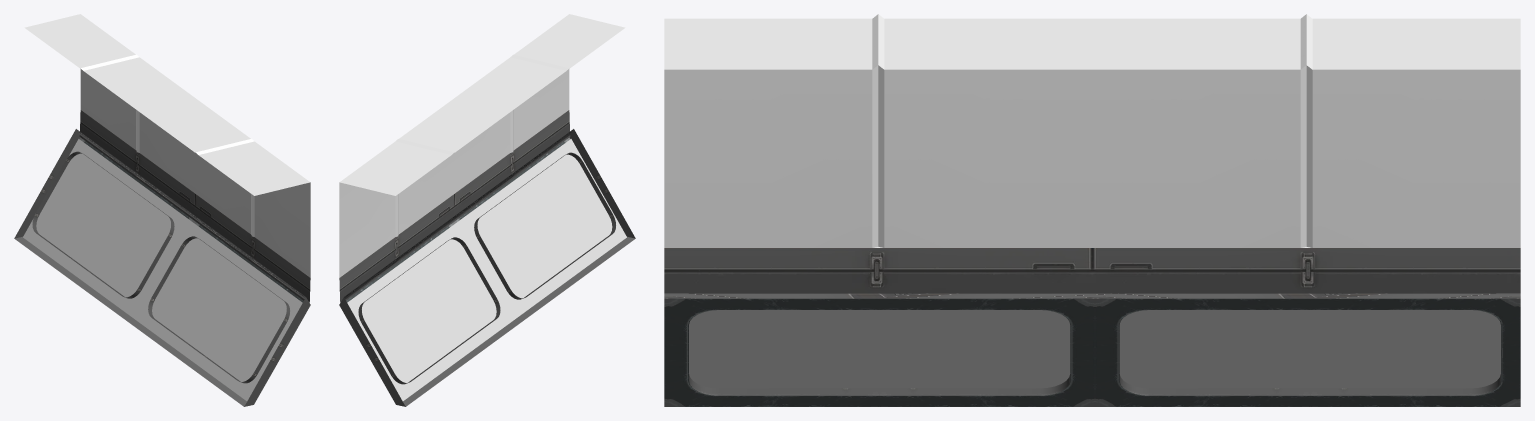
The model's file is TopWindow_Straight.glb.
3 views of the same model, side by side, from view 1: azimuth 30°, elevation 25°; view 2: azimuth 150°, elevation 25°; view 3: azimuth 270°, elevation 25° (orthographic). The views are drawn at different scales.
Visible parts, largest first — view 1: TopWindow_Straight; view 2: TopWindow_Straight; view 3: TopWindow_Straight.
Part boxes in pixels (x1,y1,x2,y2): TopWindow_Straight: (14, 14, 310, 406); TopWindow_Straight: (339, 14, 635, 406); TopWindow_Straight: (664, 14, 1520, 406).
Bounding box in the file's own units: 0.6695 × 2.02 × 4.
Materials: 4 (2 with a texture image).
